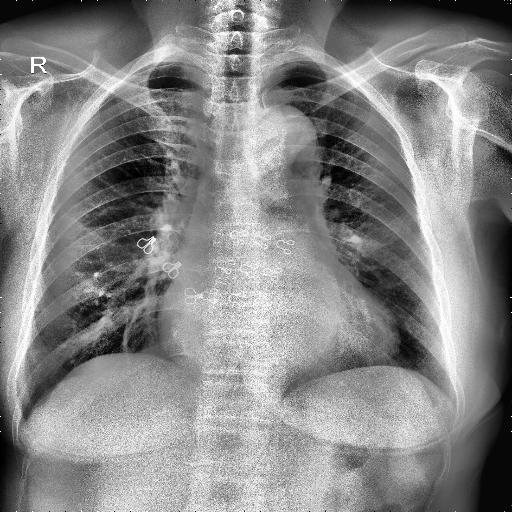0- Aortic enlargement: (249, 107, 321, 176), (257, 105, 319, 180), (260, 104, 316, 168)
13- Pulmonary fibrosis: (119, 290, 150, 363)
3- Cardiomegaly: (158, 284, 398, 364), (154, 299, 401, 372), (162, 299, 402, 369)
